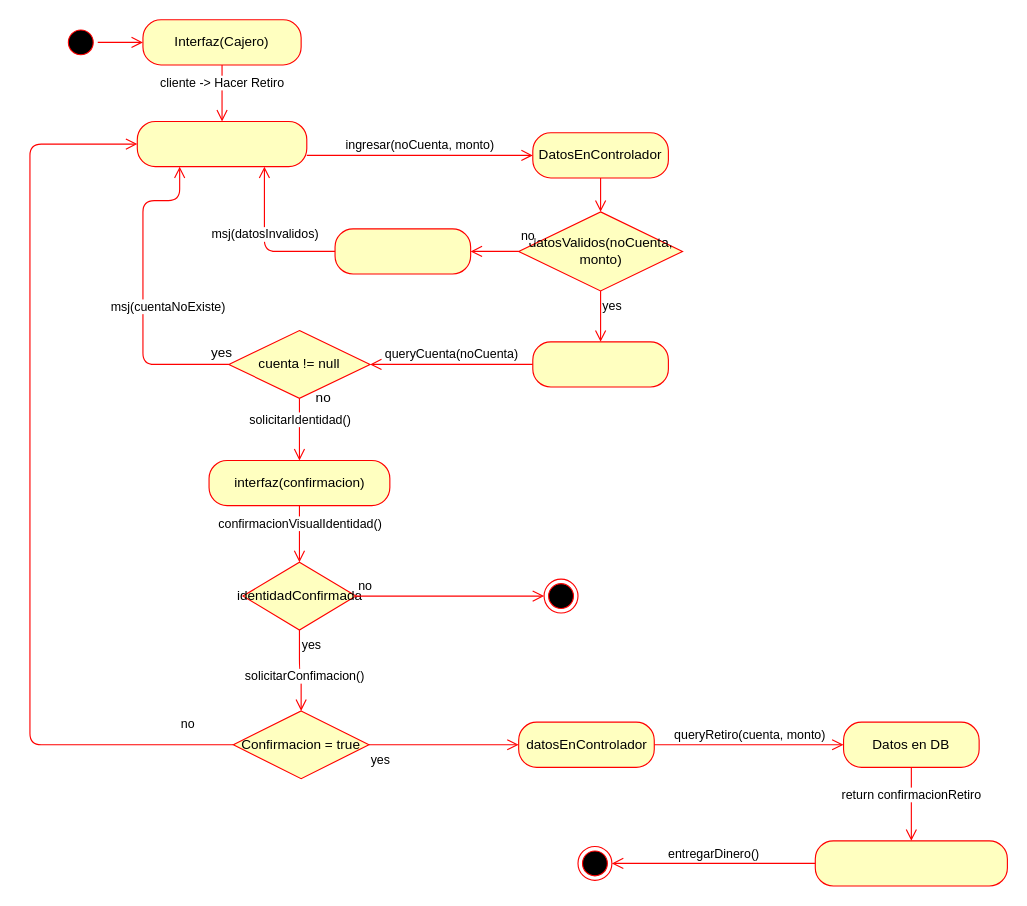
Some shapes in this 1027 by 906 pixel diagram are drawn without their labels. The box of each missing label's shape, as (x1, y1, x2, y2) in pixels:
En Acceso A Objetos: (532, 341, 668, 387)
Interfaz(confirmacionRetiro): (814, 840, 1007, 886)
Interfaz(errorDatos): (334, 228, 471, 274)
interfaz(RealizarRetiro): (136, 120, 307, 167)
